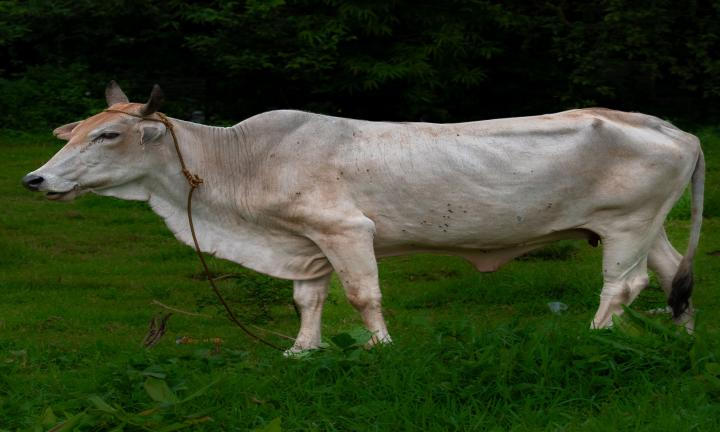Brahman: (22, 82, 704, 351)
